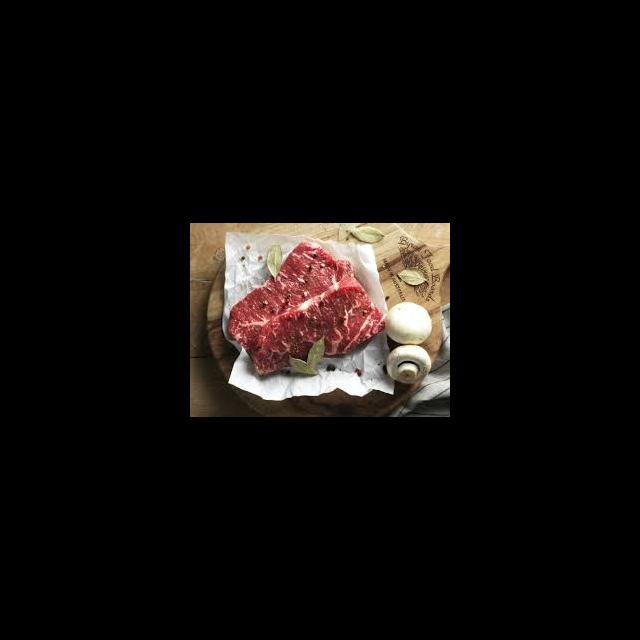beef: (228, 237, 386, 370)
